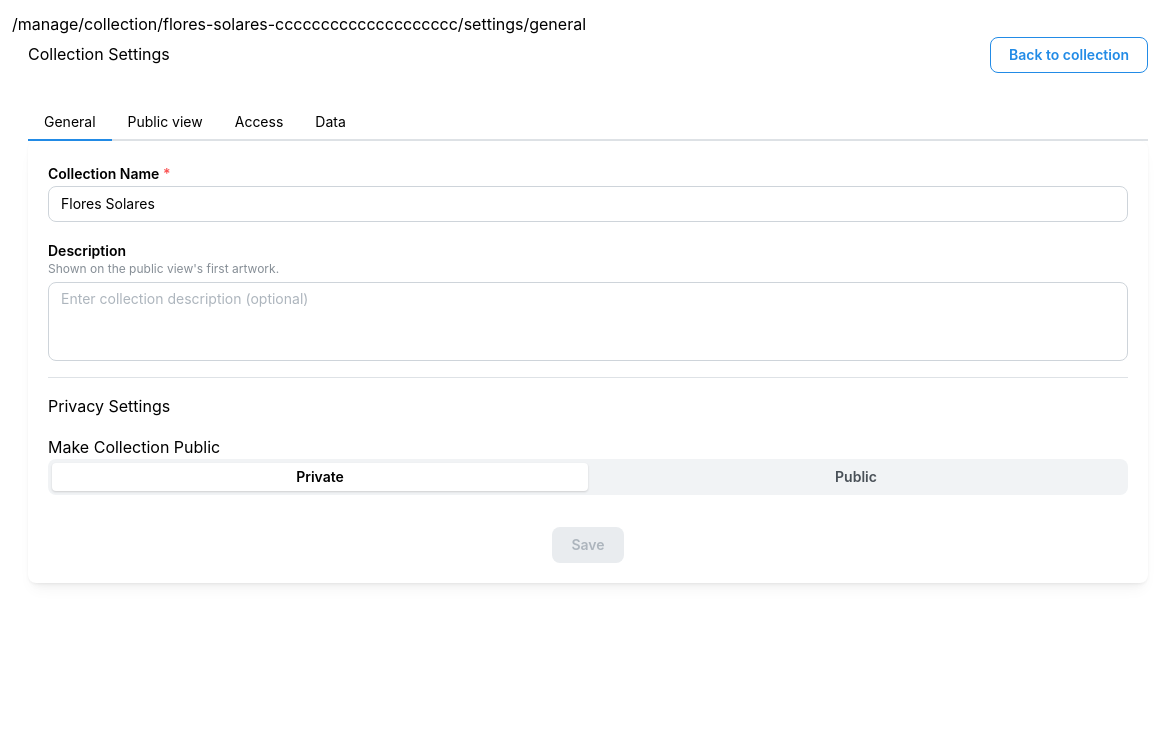
Test: the settings page's access card › mounts the card on its tab with the parsed id, and keeps the settings form for a collaborator
Expected: the text with test id "address" shows "/settings/general", [12,14,586,34]
Expected: the field labelled "Collection Name *" is shown, [48,186,1128,222]
// Choosing another tab changes the address as well as the panel.
Click the tab "Access": (259, 123) [219,105,299,141]
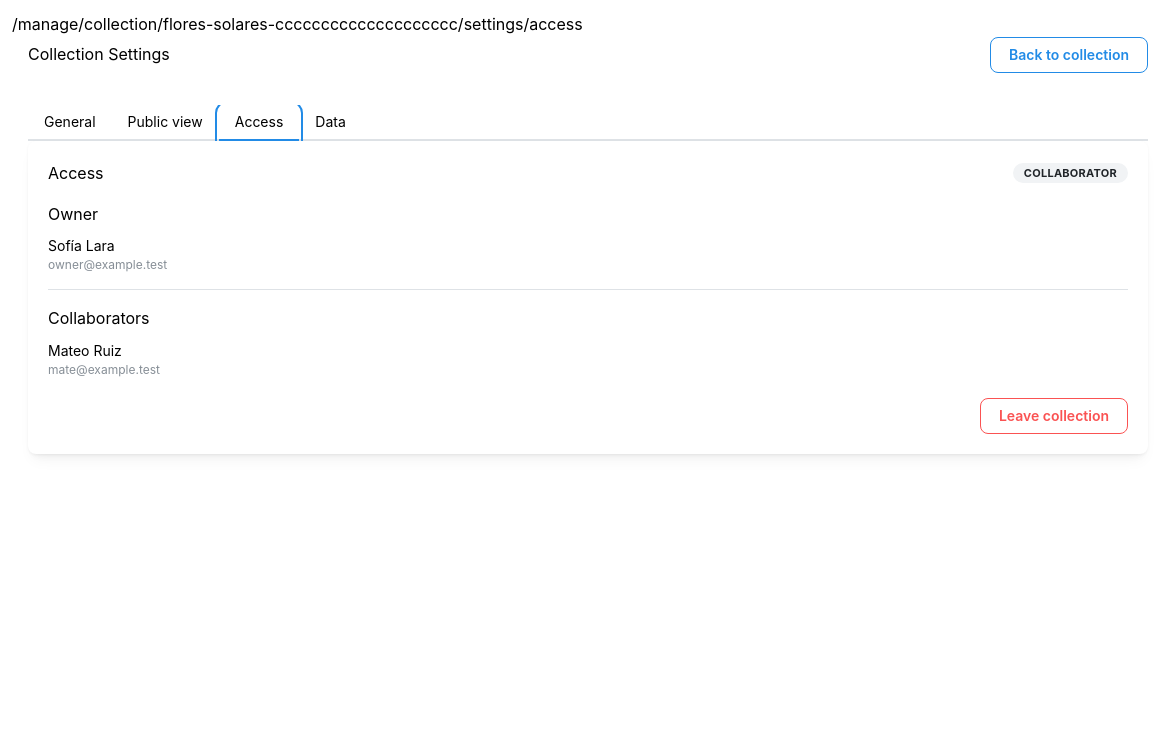
Now the text with test id "address" shows "/settings/access", box [12,14,583,34]
Now the element with test id "access-card" is shown, box [28,141,1148,454]
Now the button "Leave collection" is shown, box [980,398,1128,434]
